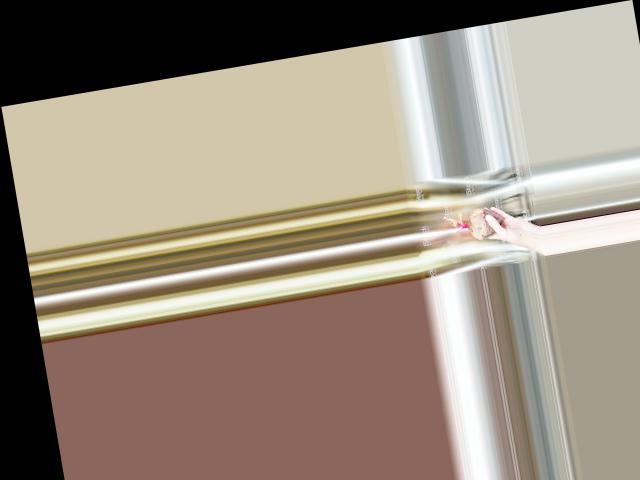beet: (443, 204, 505, 244)
